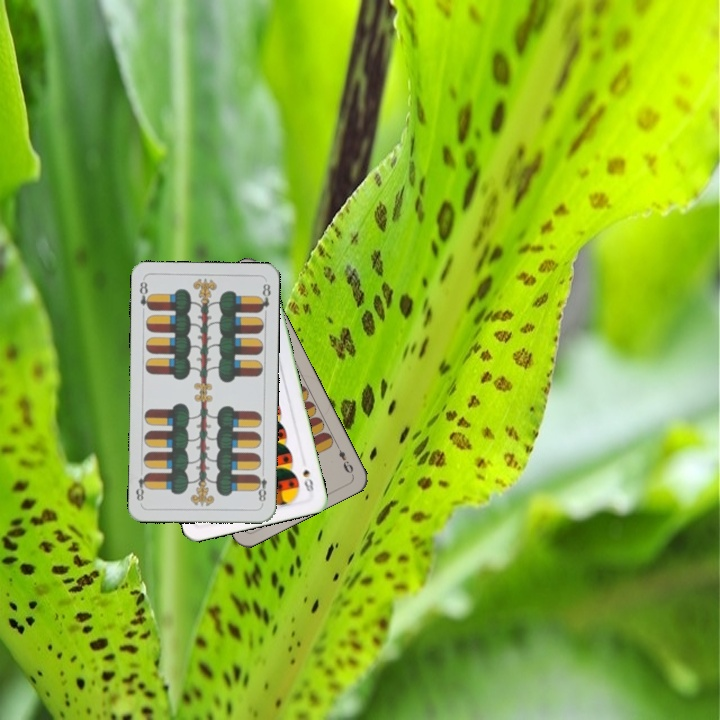E8: (135, 278, 154, 313), (252, 471, 269, 507)
E9: (332, 439, 356, 476)
S8: (299, 466, 316, 495)
